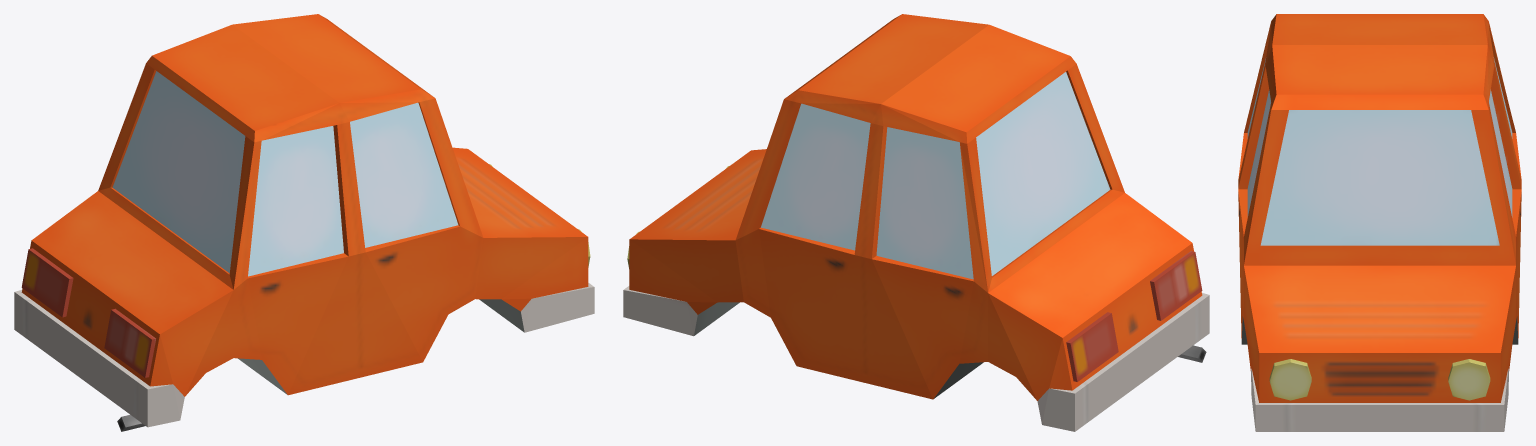
The model's file is co_CarA_01.fbx.
3 views of the same model, side by side, from view 1: azimuth 30°, elevation 25°; view 2: azimuth 150°, elevation 25°; view 3: azimuth 270°, elevation 25° (orthographic).
Parts seen in each view (by area): view 1: CarA_01; view 2: CarA_01; view 3: CarA_01.
Boxes of the visible parts, box(x1,y1,x2,y2) form: CarA_01: box(14, 14, 594, 431); CarA_01: box(623, 14, 1209, 431); CarA_01: box(1238, 14, 1521, 431).
Bounding box in the file's own units: 422 × 243 × 223.
